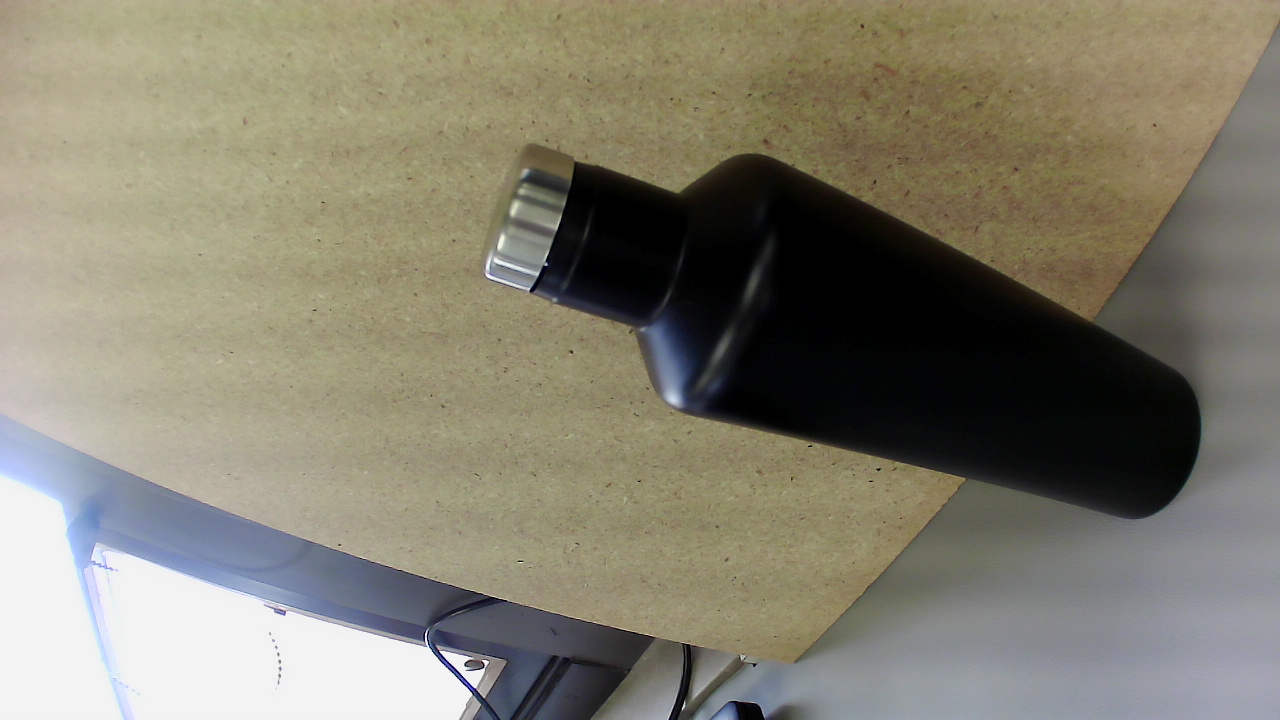neobottle: (461, 135, 1205, 525)
